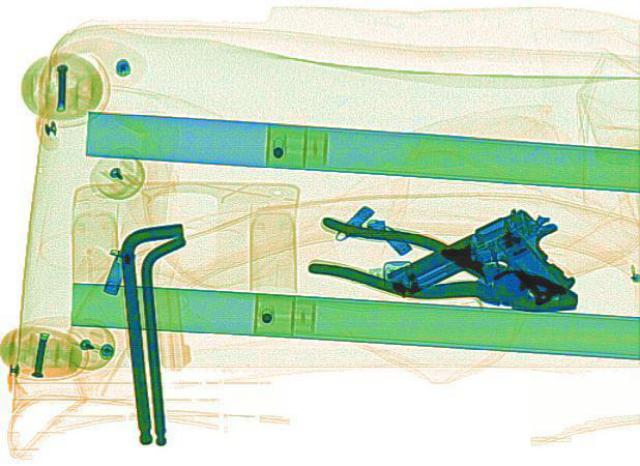Gun: (376, 198, 604, 340)
Pliers: (294, 210, 594, 330)
